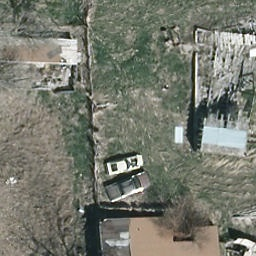car: (103, 173, 154, 202)
pickup: (102, 155, 146, 175)
